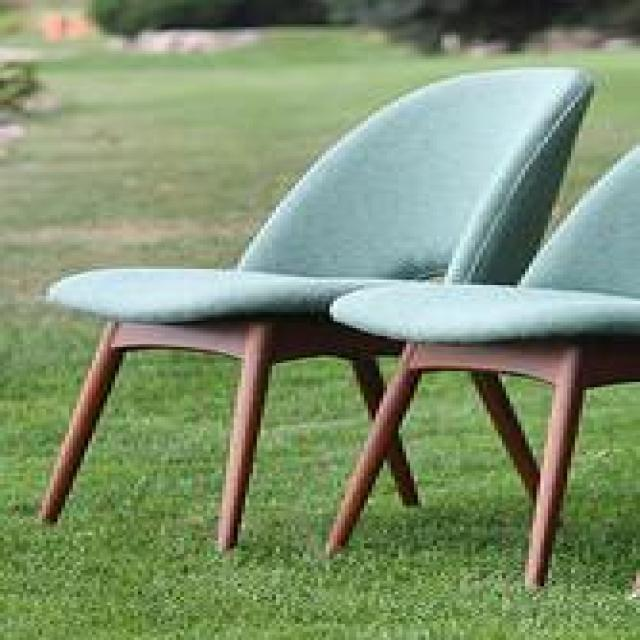chair: (35, 64, 594, 554)
